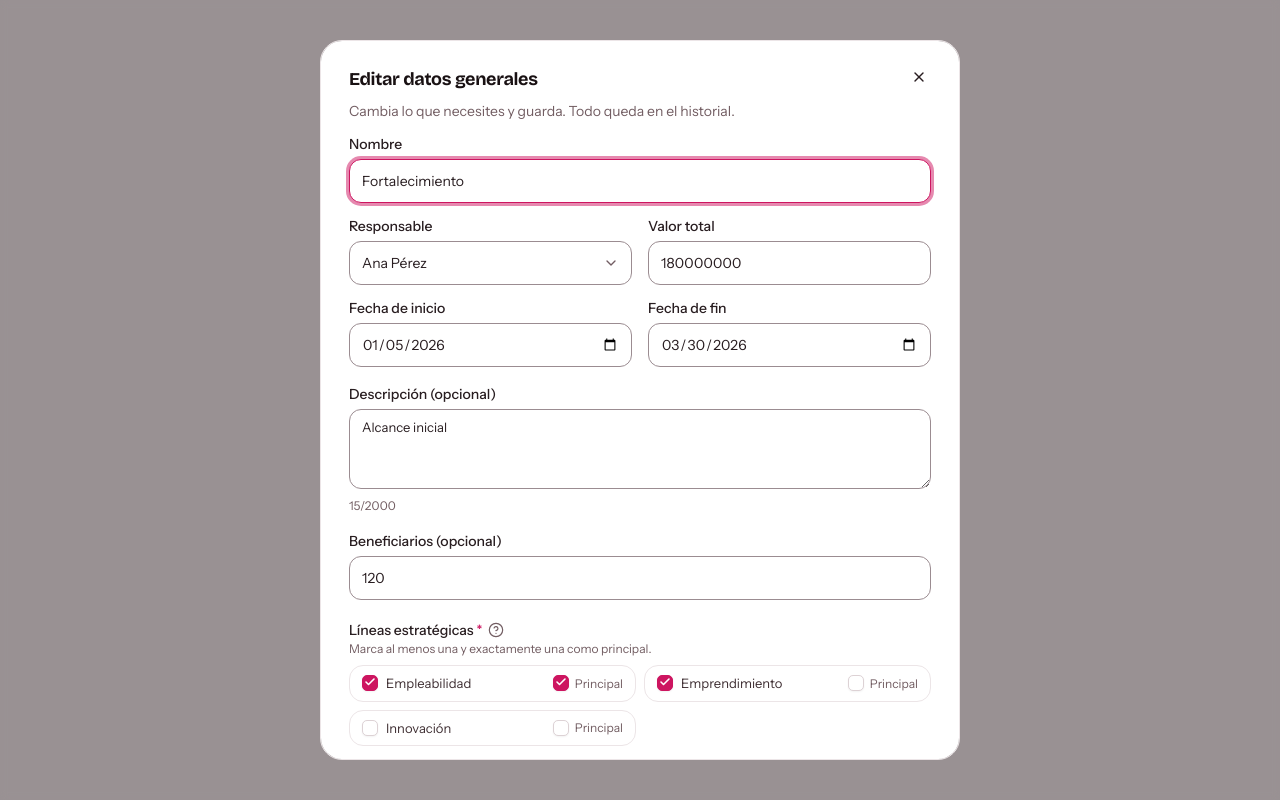
Test: EditarDatosGenerales › BORRADOR › blocks an end date that is not after the start (F4), announces it and focuses the field
This screenshot has width=1280, height=800.
Type "2026-01-05" into the date field labelled "Fecha de fin" at (790, 345), box [648, 323, 931, 367]
(page scrolled)
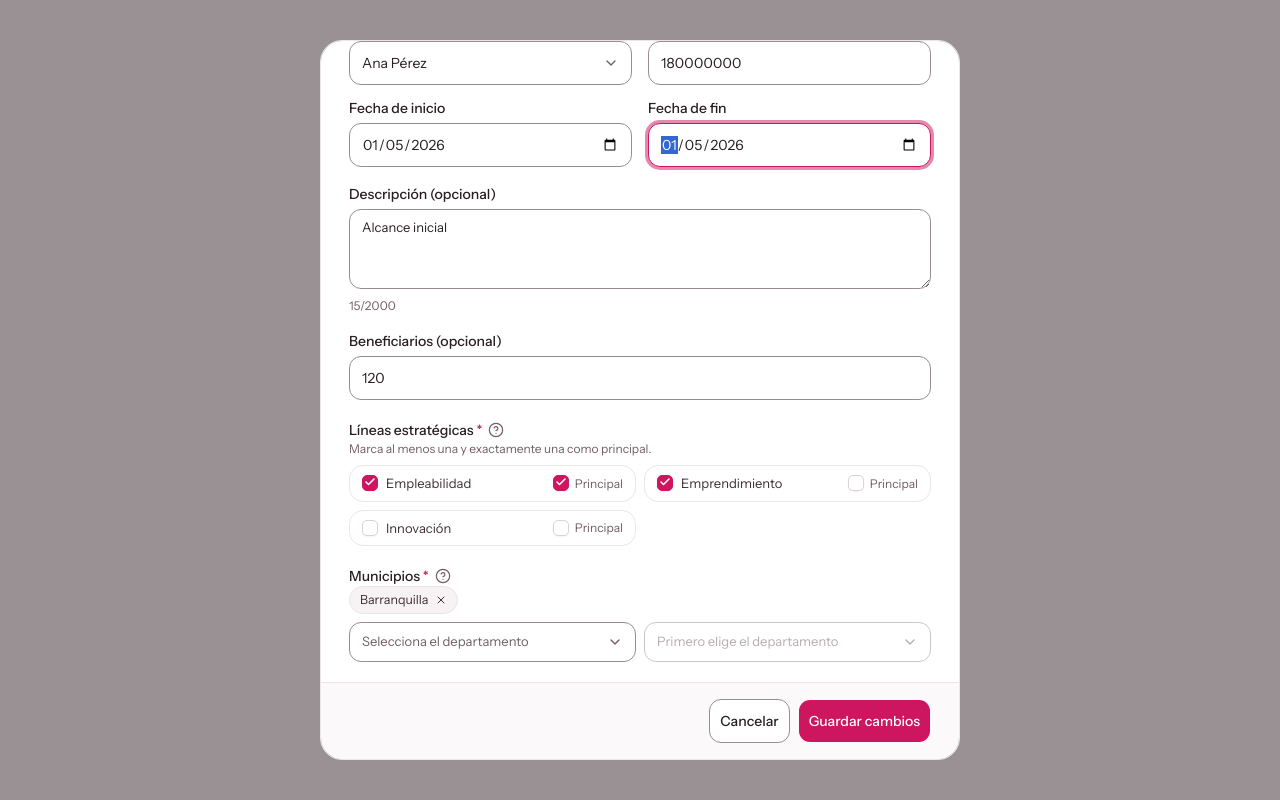
Click the button "Guardar cambios" at (864, 721), box [798, 699, 931, 743]
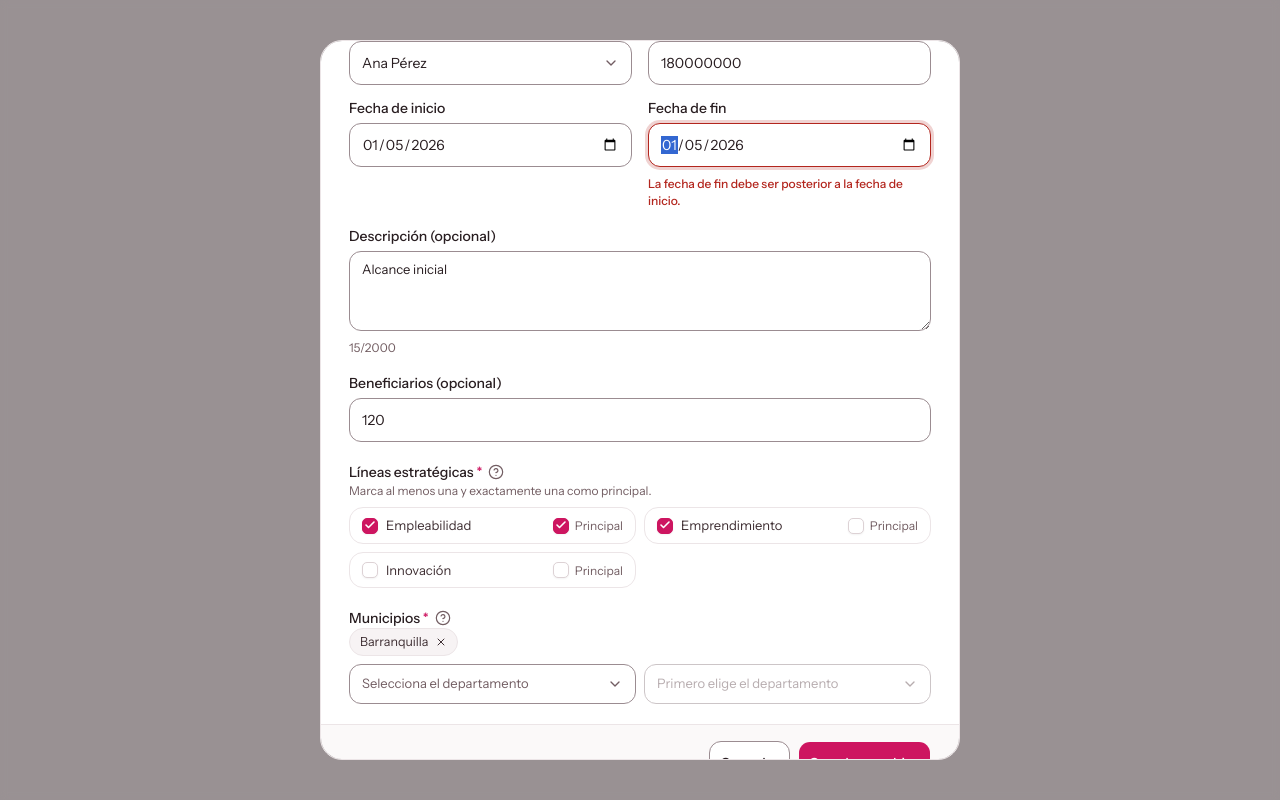
Expected: the message reads "La fecha de fin debe ser posterior a la fecha de inicio.", [648, 176, 903, 208]
